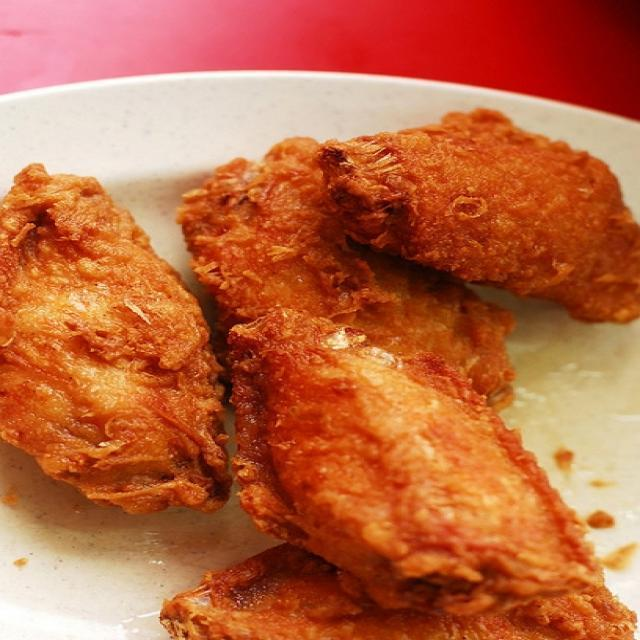Deep fried chicken wing: (18, 115, 617, 613)
